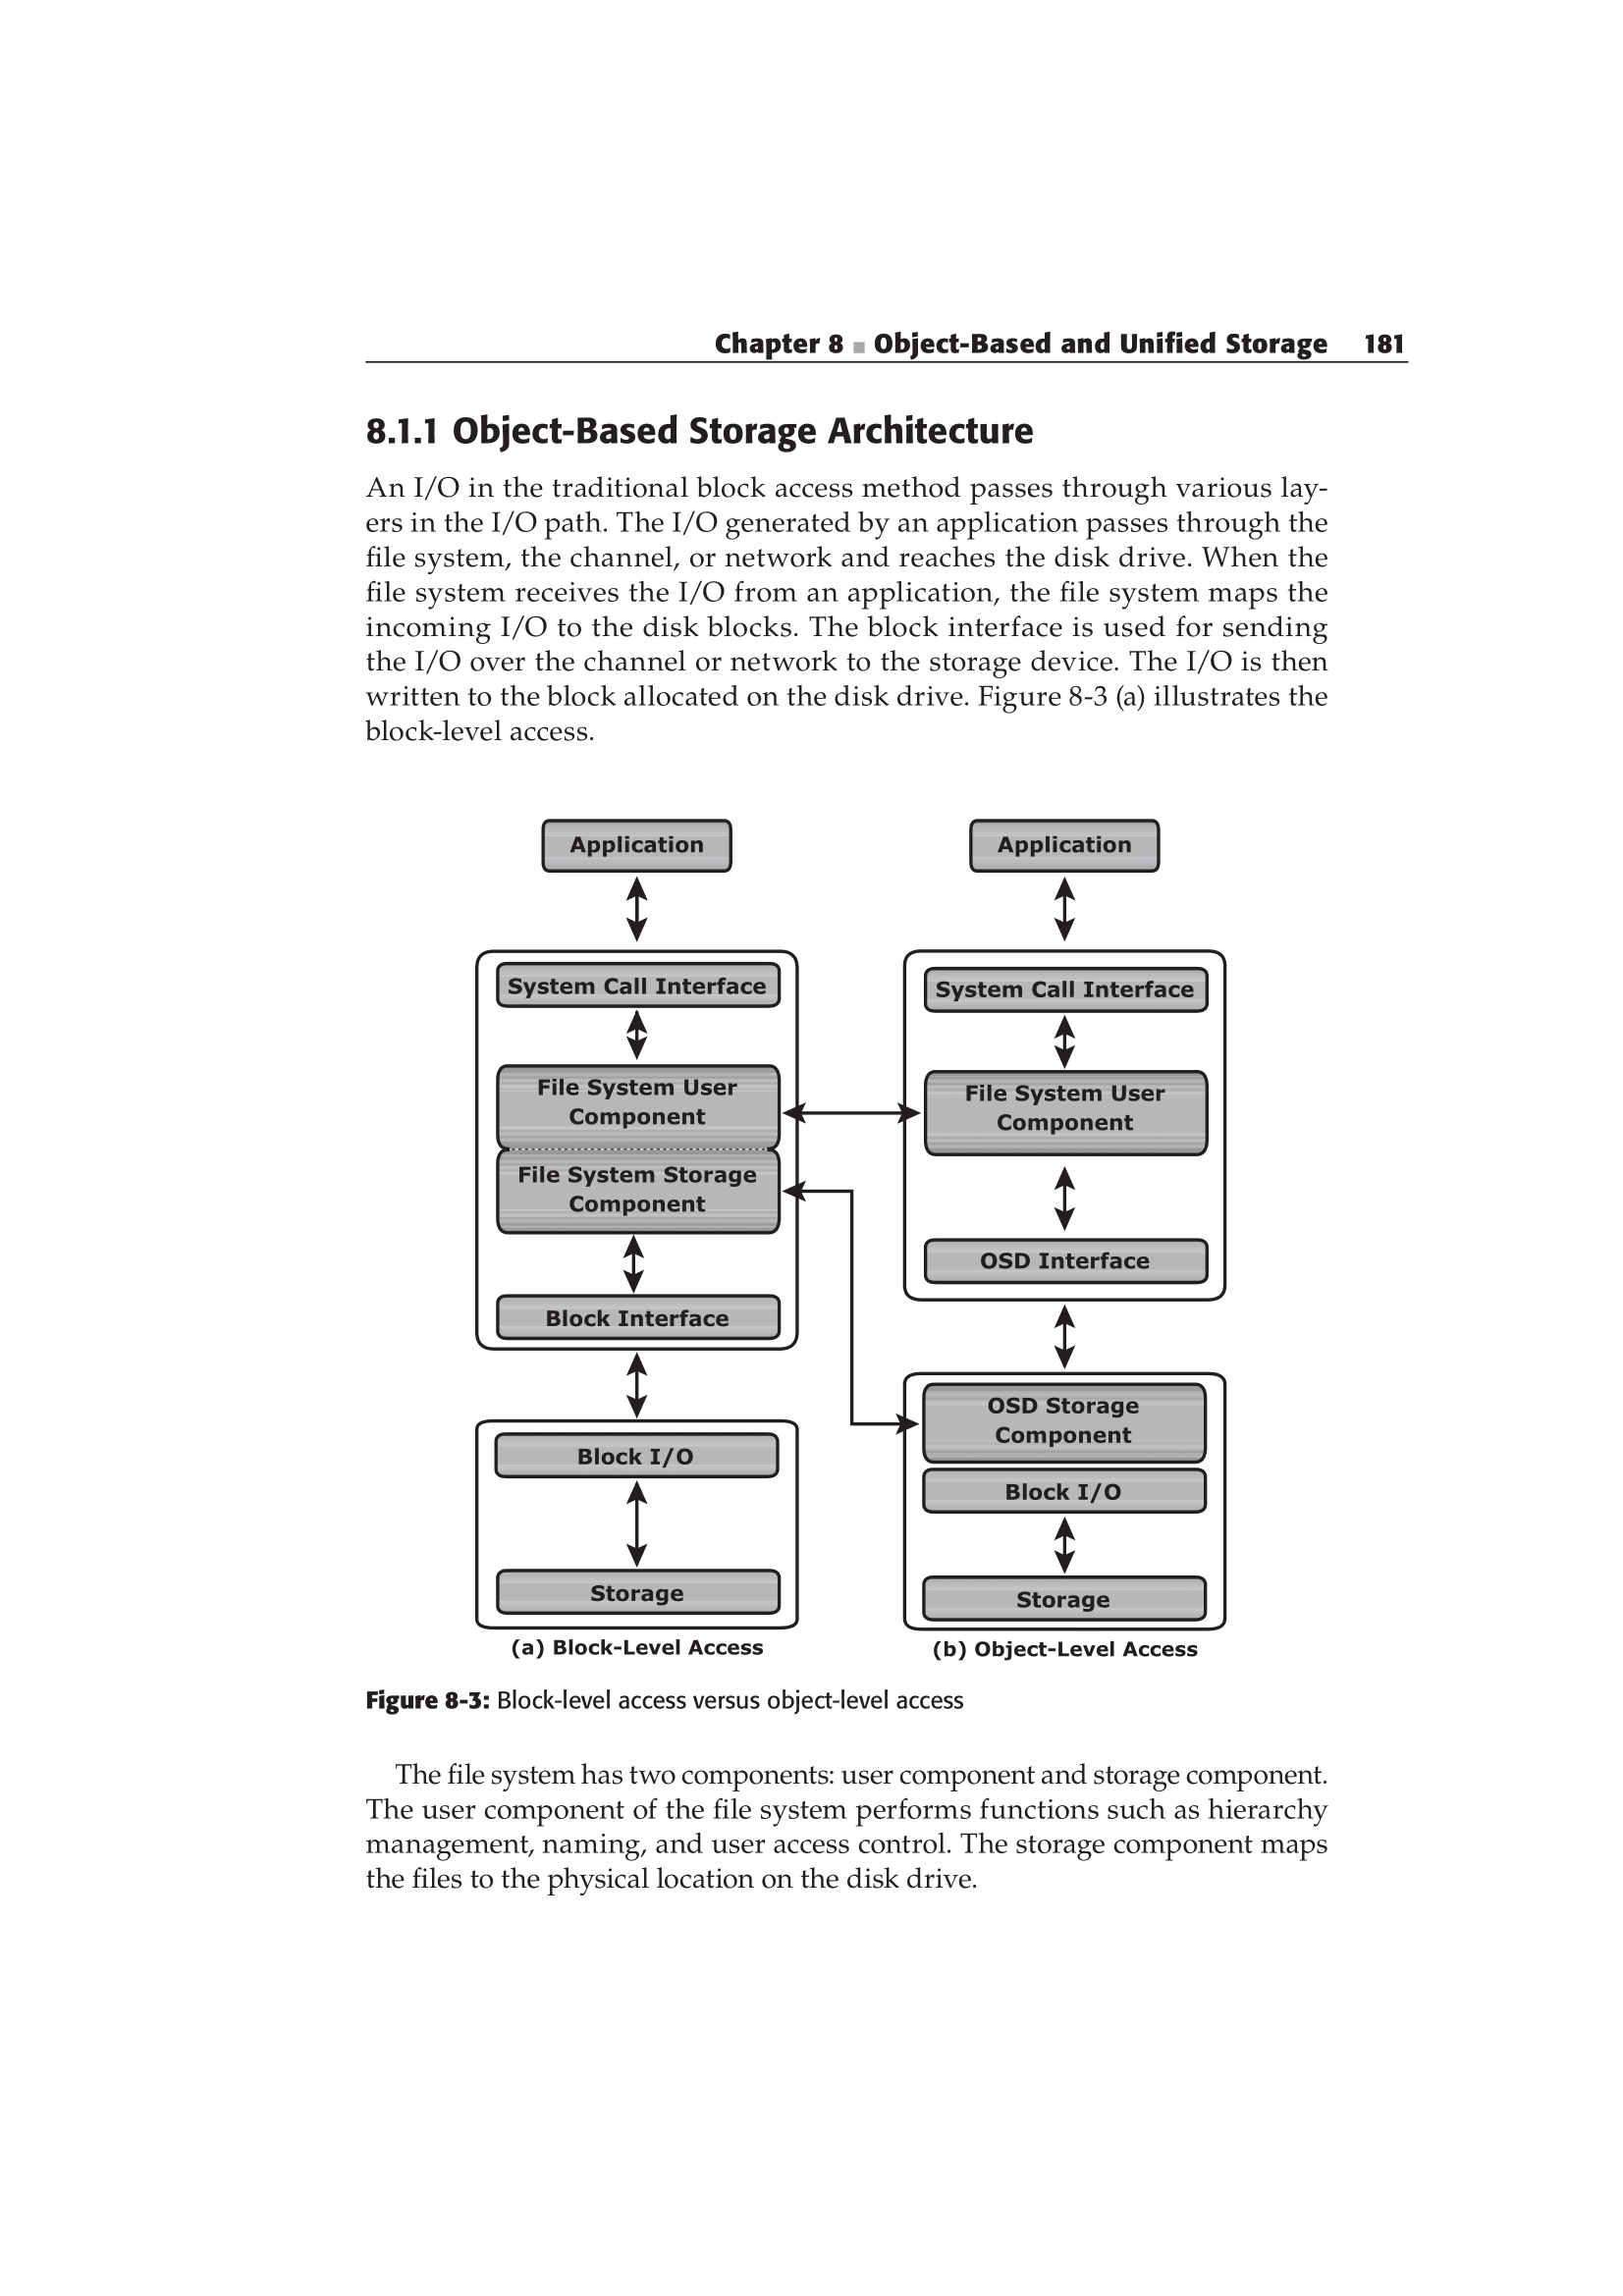Image: (357, 779, 1370, 1680)
Paragraph: (184, 474, 1433, 746), (227, 1759, 1446, 1931), (620, 297, 1479, 381), (202, 393, 1094, 456), (221, 1685, 1035, 1747)
